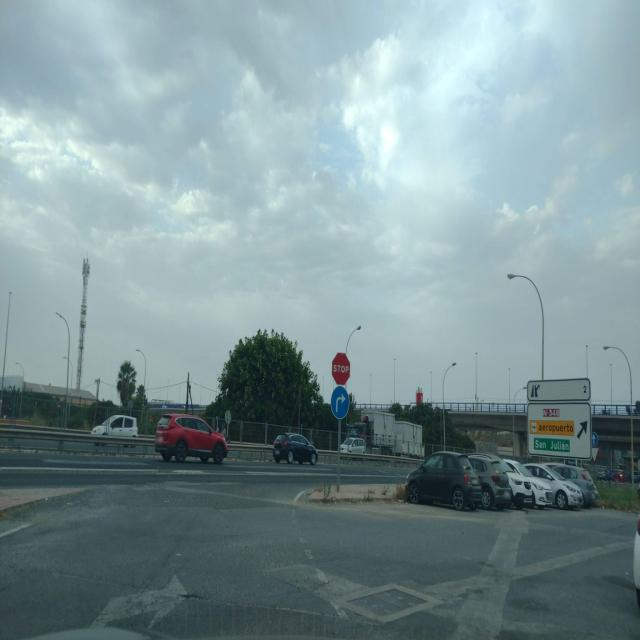car: (404, 453, 484, 510), (154, 413, 228, 464), (520, 462, 583, 510), (463, 456, 512, 509), (484, 458, 530, 508), (546, 466, 599, 507), (504, 461, 548, 508), (272, 432, 318, 466), (91, 413, 138, 438), (339, 436, 367, 458)
